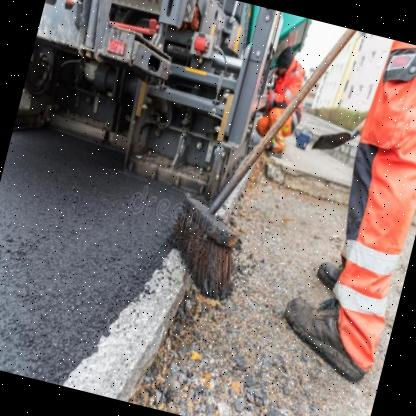bota: (268, 291, 382, 388), (309, 253, 346, 294)
